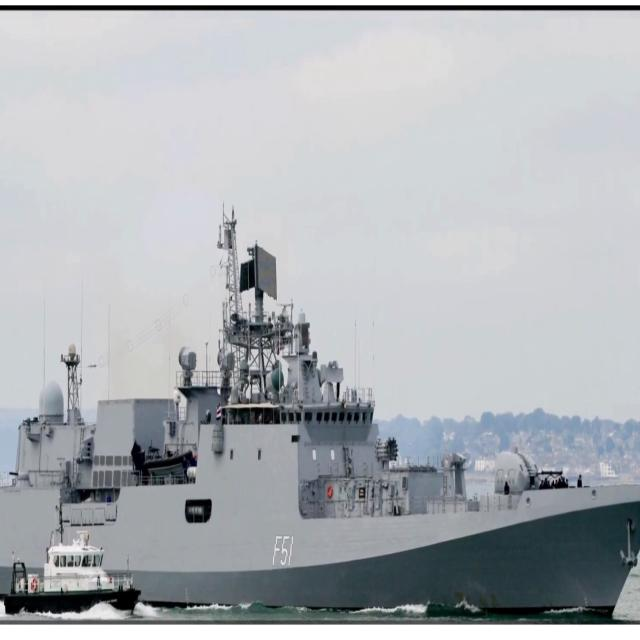OCR: (272, 525, 306, 577)
